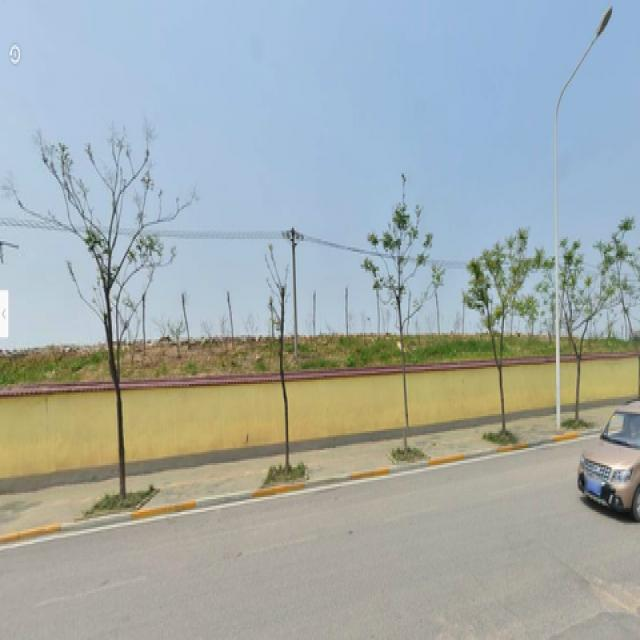koel: (54, 147, 150, 480), (372, 213, 432, 448), (471, 250, 525, 440), (561, 250, 604, 416)
